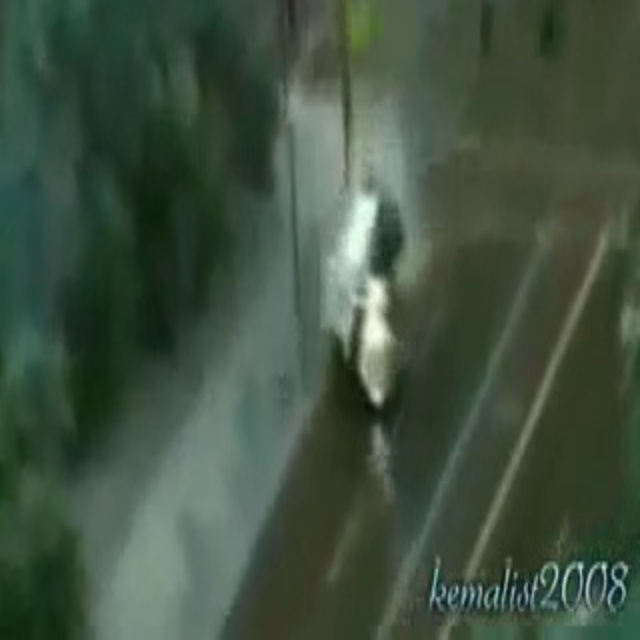acc: (291, 154, 456, 419)
